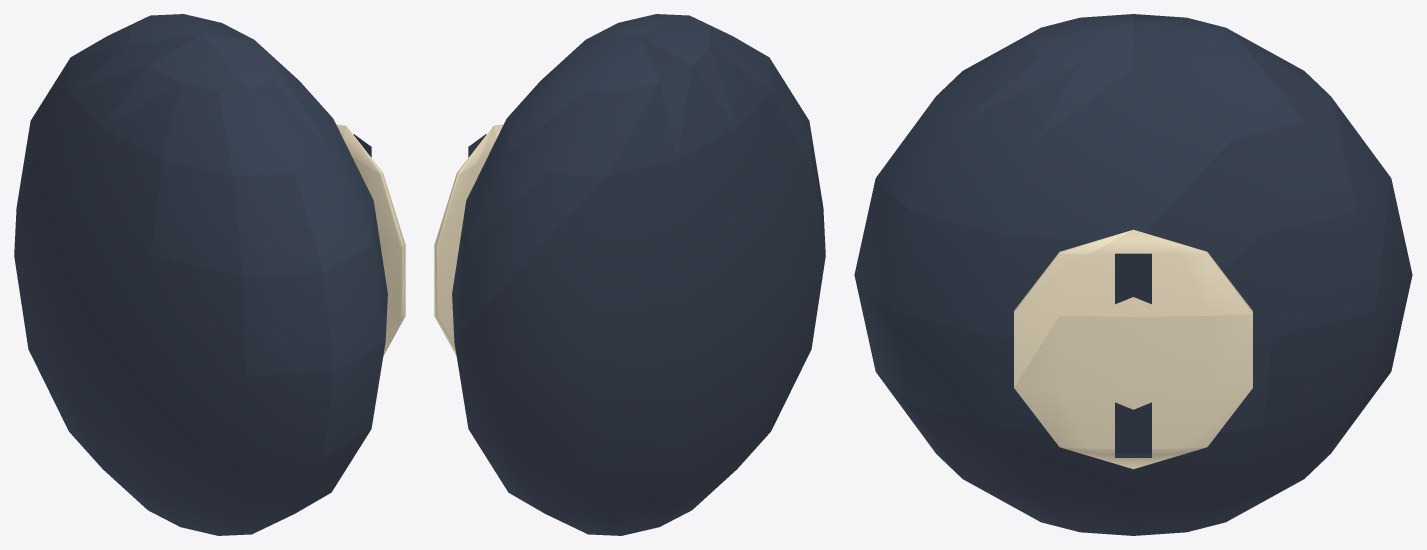
Rendered from wheel.gltf.
3 views of the same model, side by side, from view 1: azimuth 30°, elevation 25°; view 2: azimuth 150°, elevation 25°; view 3: azimuth 270°, elevation 25° (orthographic). The views are drawn at different scales.
Bounding box in the file's own units: 0.4975 × 0.76 × 0.76.
Materials: 1 (1 with a texture image).
